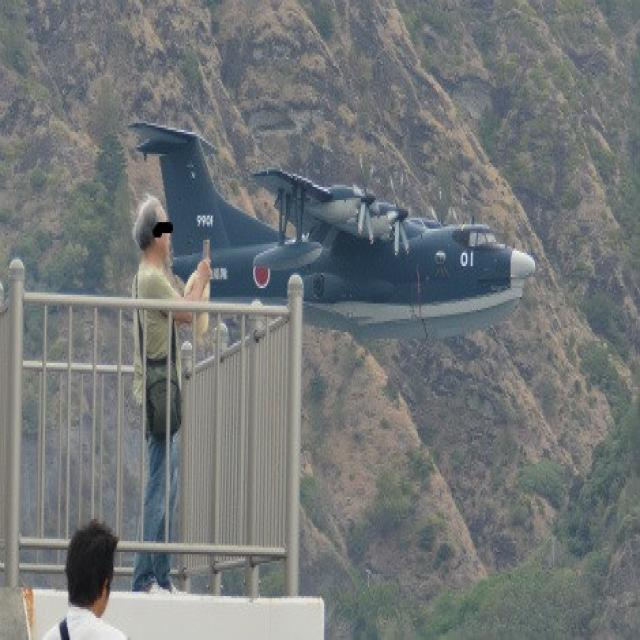MIL_Plane: (126, 119, 536, 341)
